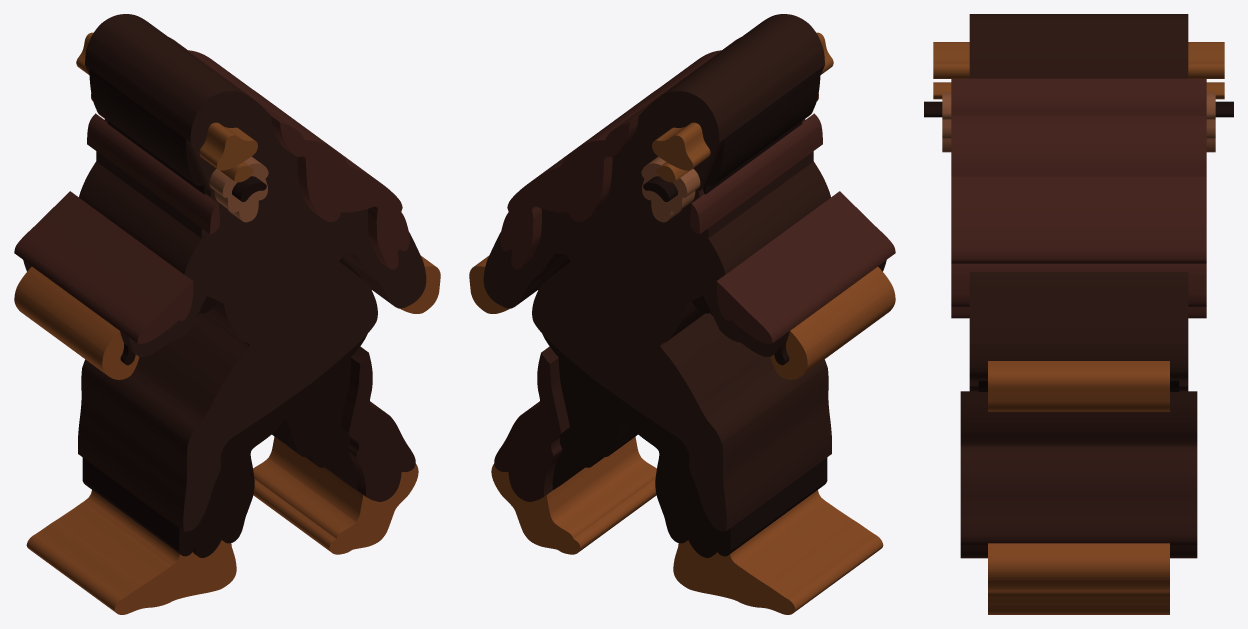
The model's file is U+1FAC8.obj.
3 views of the same model, side by side, from view 1: azimuth 30°, elevation 25°; view 2: azimuth 150°, elevation 25°; view 3: azimuth 270°, elevation 25° (orthographic). The views are drawn at different scales.
Parts seen in each view (by area): view 1: U+1FAC8_layer02_obj00, U+1FAC8_layer01_obj03, U+1FAC8_layer04_obj01, U+1FAC8_layer00_obj00, U+1FAC8_layer00_obj03, U+1FAC8_layer04_obj02, U+1FAC8_layer03_obj00, U+1FAC8_layer00_obj02, U+1FAC8_layer04_obj00, U+1FAC8_layer01_obj00, U+1FAC8_layer06_obj01, U+1FAC8_layer05_obj00 (+1 smaller); view 2: U+1FAC8_layer02_obj00, U+1FAC8_layer01_obj03, U+1FAC8_layer04_obj01, U+1FAC8_layer00_obj00, U+1FAC8_layer00_obj03, U+1FAC8_layer04_obj02, U+1FAC8_layer03_obj00, U+1FAC8_layer00_obj02, U+1FAC8_layer04_obj00, U+1FAC8_layer01_obj00, U+1FAC8_layer06_obj01, U+1FAC8_layer05_obj00 (+1 smaller); view 3: U+1FAC8_layer04_obj02, U+1FAC8_layer02_obj00, U+1FAC8_layer03_obj00, U+1FAC8_layer00_obj03, U+1FAC8_layer00_obj01, U+1FAC8_layer06_obj01, U+1FAC8_layer05_obj00, U+1FAC8_layer07_obj00, U+1FAC8_layer06_obj00.
Boxes of the visible parts, <box> form: U+1FAC8_layer02_obj00: <box>23,14,426,531</box>; U+1FAC8_layer01_obj03: <box>82,334,367,557</box>; U+1FAC8_layer04_obj01: <box>14,191,193,343</box>; U+1FAC8_layer00_obj00: <box>26,490,236,614</box>; U+1FAC8_layer00_obj03: <box>253,436,418,554</box>; U+1FAC8_layer04_obj02: <box>169,37,409,269</box>; U+1FAC8_layer03_obj00: <box>340,346,415,501</box>; U+1FAC8_layer00_obj02: <box>14,267,139,379</box>; U+1FAC8_layer04_obj00: <box>87,113,219,234</box>; U+1FAC8_layer01_obj00: <box>89,68,206,194</box>; U+1FAC8_layer06_obj01: <box>76,32,257,170</box>; U+1FAC8_layer05_obj00: <box>91,94,268,222</box>; U+1FAC8_layer02_obj00: <box>483,14,886,531</box>; U+1FAC8_layer01_obj03: <box>542,334,827,557</box>; U+1FAC8_layer04_obj01: <box>716,191,895,343</box>; U+1FAC8_layer00_obj00: <box>673,490,883,614</box>; U+1FAC8_layer00_obj03: <box>491,436,656,554</box>; U+1FAC8_layer04_obj02: <box>500,37,740,269</box>; U+1FAC8_layer03_obj00: <box>494,346,569,501</box>; U+1FAC8_layer00_obj02: <box>770,267,895,379</box>; U+1FAC8_layer04_obj00: <box>690,113,822,234</box>; U+1FAC8_layer01_obj00: <box>703,68,820,194</box>; U+1FAC8_layer06_obj01: <box>652,32,833,170</box>; U+1FAC8_layer05_obj00: <box>641,94,818,222</box>; U+1FAC8_layer04_obj02: <box>951,78,1206,318</box>; U+1FAC8_layer02_obj00: <box>969,14,1188,391</box>; U+1FAC8_layer03_obj00: <box>960,391,1197,558</box>; U+1FAC8_layer00_obj03: <box>988,543,1169,614</box>; U+1FAC8_layer00_obj01: <box>988,361,1169,411</box>; U+1FAC8_layer06_obj01: <box>933,42,1224,78</box>; U+1FAC8_layer05_obj00: <box>942,92,1215,152</box>; U+1FAC8_layer07_obj00: <box>924,101,1233,117</box>; U+1FAC8_layer06_obj00: <box>933,82,1224,99</box>.
Bounding box in the file's own units: 0.2222 × 0.3183 × 0.17.
